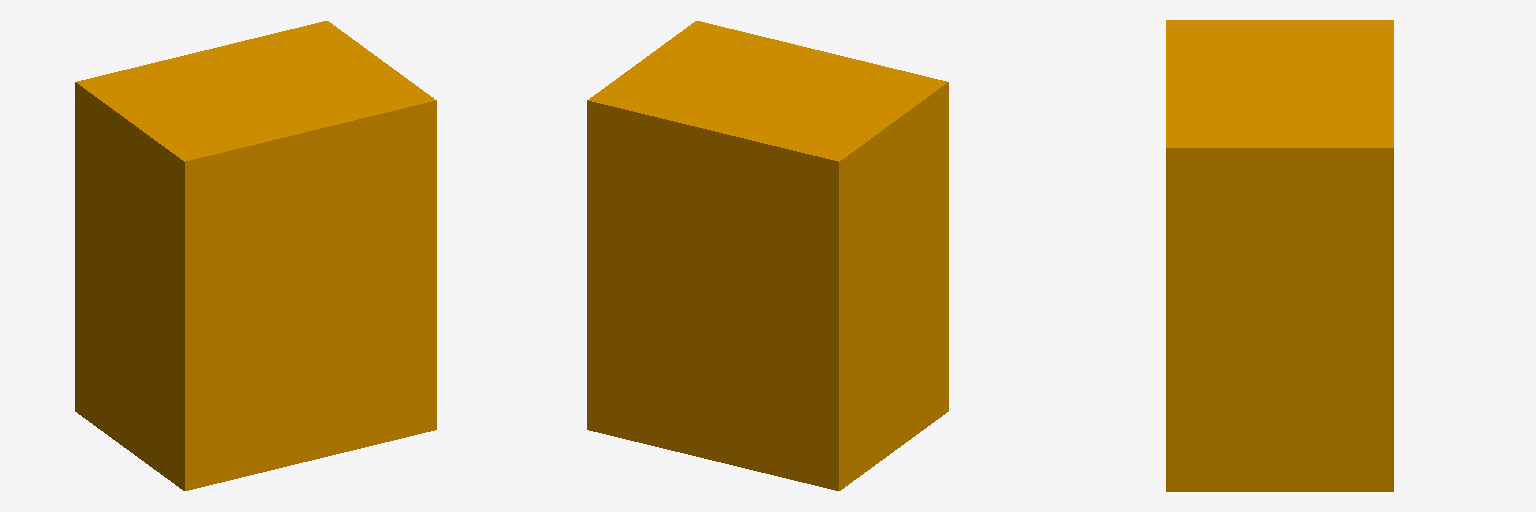
The robot description file, URDF, robot "oil_bottle_simple_cap_new.off":
<?xml version="1.0"?>
<robot name="oil_bottle_simple_cap_new.off">
	<link name="oil_bottle_simple_cap_new.off">
		<inertial>
			<!--origin xyz="0 0 0" rpy="0 0 0" /-->
			<mass value="0.5" />
			<!--inertia ixx="0.000360" ixy="0" ixz="0" iyy="0.0000615" iyz="0" izz="0.00036" /-->
		</inertial>
    		<visual>
	      		<!--origin rpy="0 0 0" xyz="0 0 0"/-->
      			<geometry>
        			<mesh filename="oil_bottle_simple_cap_new.off.obj"/>
      			</geometry>
         	</visual>
    		<collision>
      			<!--origin rpy="0 0 0" xyz="0 0 0"/-->
      			<geometry>
        			<mesh filename="oil_bottle_simple_cap_new.off.obj"/>
      			</geometry>
    		</collision>
	</link>
</robot>

--- What the picture shows (computed from the rendered views, not written in the file) ---
Views: 3 orthographic renders of the robot side by side, from view 1: azimuth 30°, elevation 25°; view 2: azimuth 150°, elevation 25°; view 3: azimuth 270°, elevation 25°.
Robot: oil_bottle_simple_cap_new.off — 1 links, 0 joints (none); root link oil_bottle_simple_cap_new.off; default pose: every joint at zero.
Visible links, largest first — view 1: oil_bottle_simple_cap_new.off; view 2: oil_bottle_simple_cap_new.off; view 3: oil_bottle_simple_cap_new.off.
Link boxes in pixels (bbox=[...]): oil_bottle_simple_cap_new.off: bbox=[75, 21, 436, 490]; oil_bottle_simple_cap_new.off: bbox=[587, 21, 948, 490]; oil_bottle_simple_cap_new.off: bbox=[1166, 20, 1393, 491].
Size in the robot's own frame: 40 by 30 by 50 metres.
1 mesh visuals loaded from 1 distinct referenced files (1 OBJ).